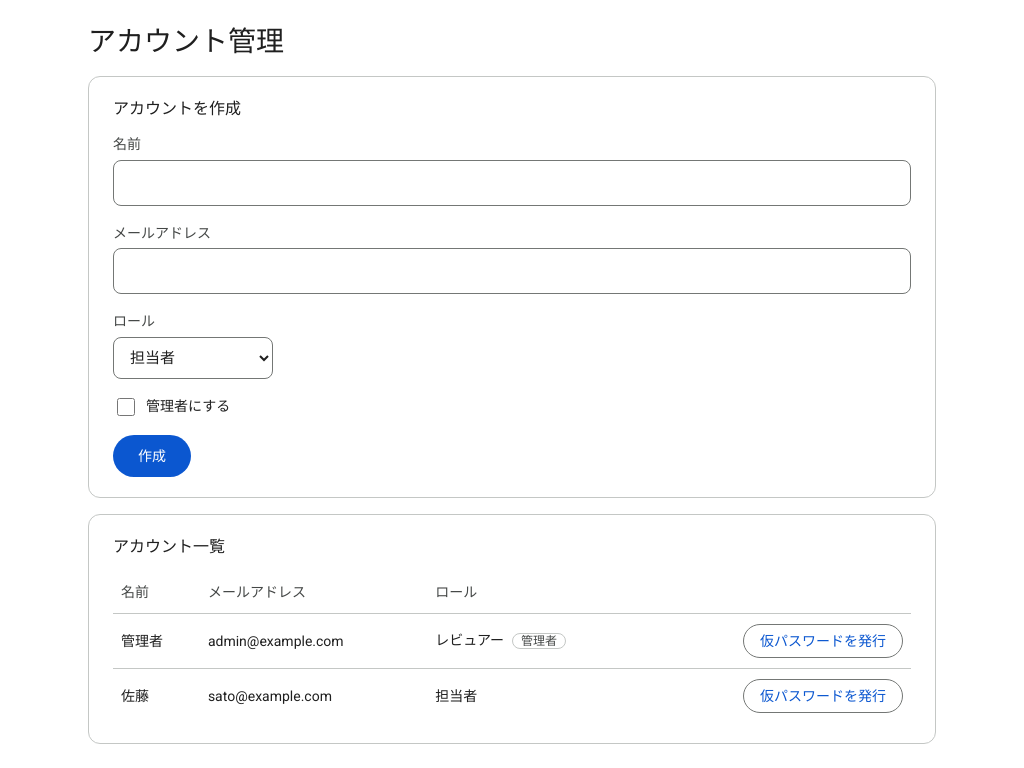
Scenario: アカウント管理 › 仮パスワードを発行すると、その人の仮パスワードを表示する
The image size is (1024, 768).
Click the button with aria-label "佐藤 の仮パスワードを発行" at (823, 696), box [743,679,903,713]
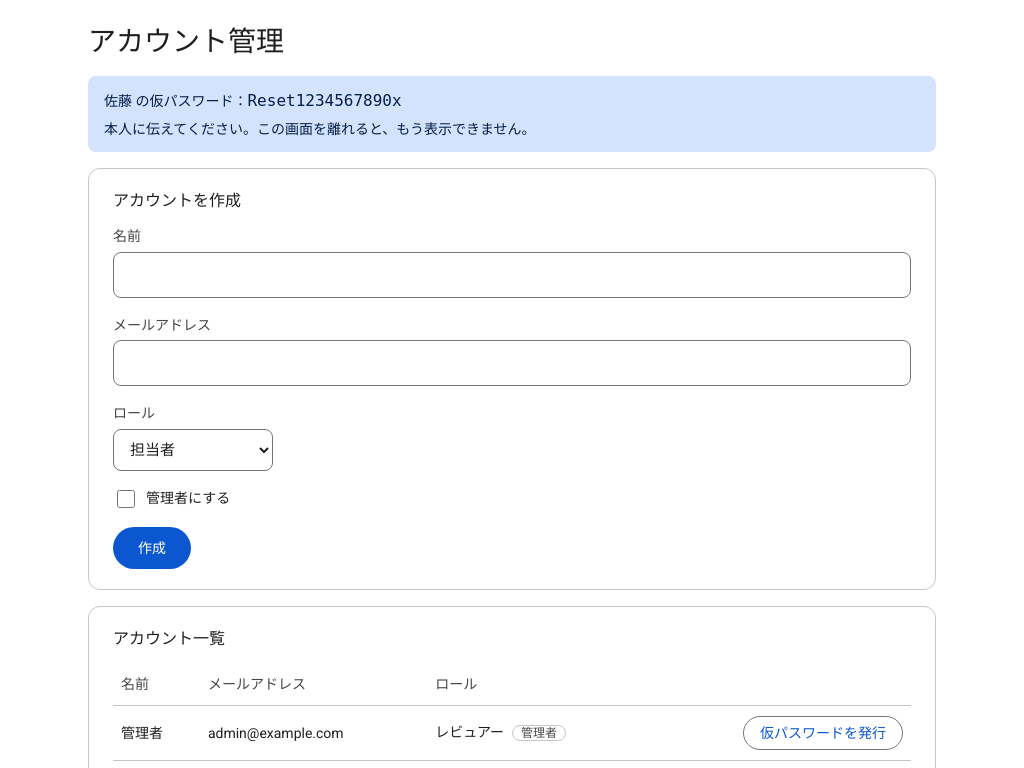
Check: the message shows "佐藤 の仮パスワード", box [88,76,936,152]
Check: the message shows "Reset1234567890x", box [248,91,402,110]
